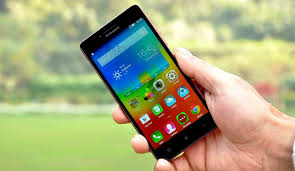lenovo: (79, 3, 216, 160)
